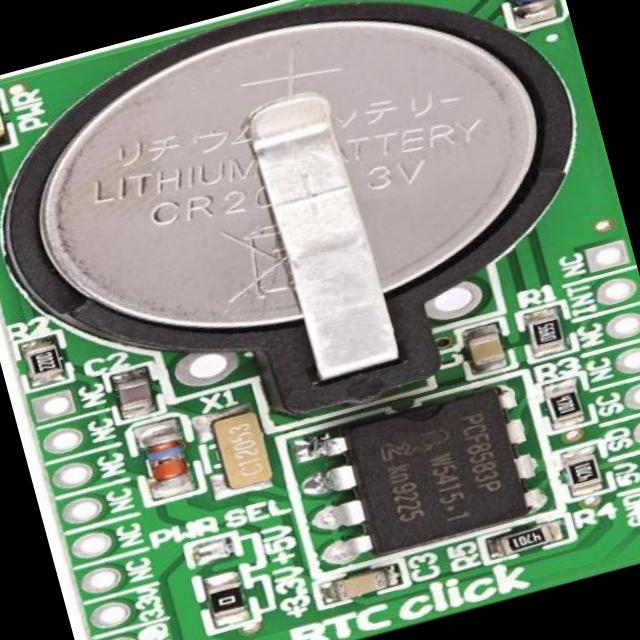IC: (317, 376, 551, 562)
capacitor: (322, 560, 406, 612), (116, 369, 172, 414), (464, 324, 514, 373)
diode: (134, 420, 199, 496), (486, 0, 567, 23)
resistor: (200, 568, 255, 634), (544, 376, 592, 430), (501, 520, 567, 556), (566, 452, 612, 499), (24, 342, 70, 387), (532, 309, 574, 352)
